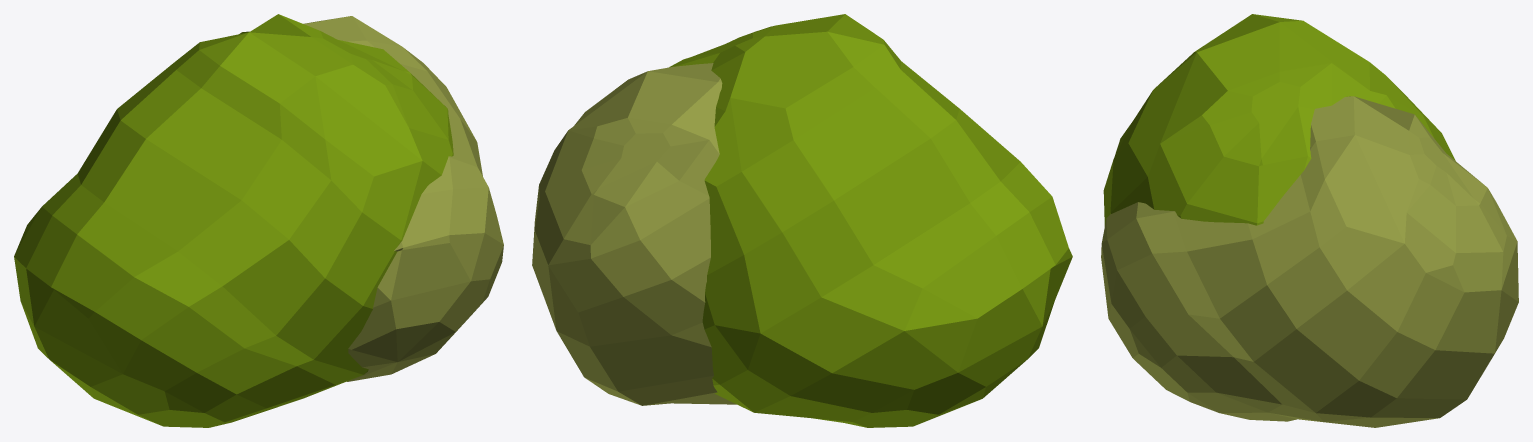
File: Bos1.fbx
3 views of the same model, side by side, from view 1: azimuth 30°, elevation 25°; view 2: azimuth 150°, elevation 25°; view 3: azimuth 270°, elevation 25° (orthographic).
Visible parts, largest first — view 1: Sphere, Sphere.001; view 2: Sphere, Sphere.001; view 3: Sphere.001, Sphere.
Boxes of the visible parts, box(x1,y1,x2,y2) form: Sphere: box(14, 14, 453, 427); Sphere.001: box(303, 16, 503, 381); Sphere: box(669, 14, 1072, 427); Sphere.001: box(532, 63, 736, 405); Sphere.001: box(1101, 96, 1518, 427); Sphere: box(1103, 14, 1455, 226).
Bounding box in the file's own units: 518 × 405 × 423.
